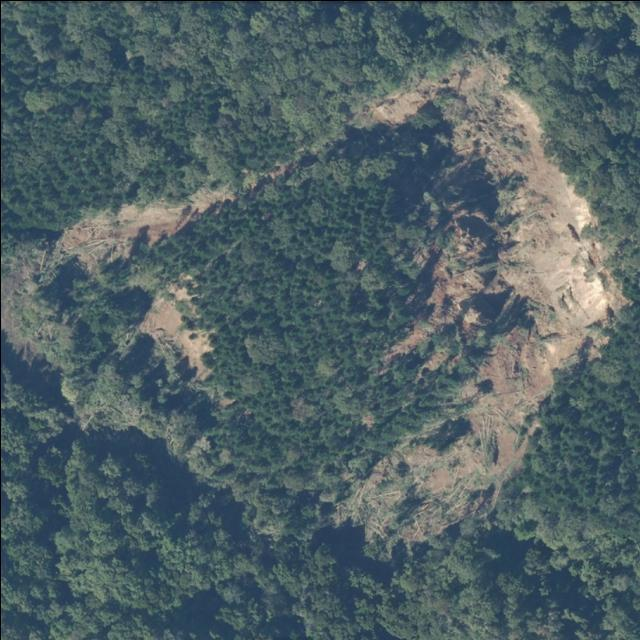landslide: (342, 57, 626, 542), (61, 188, 232, 266)
